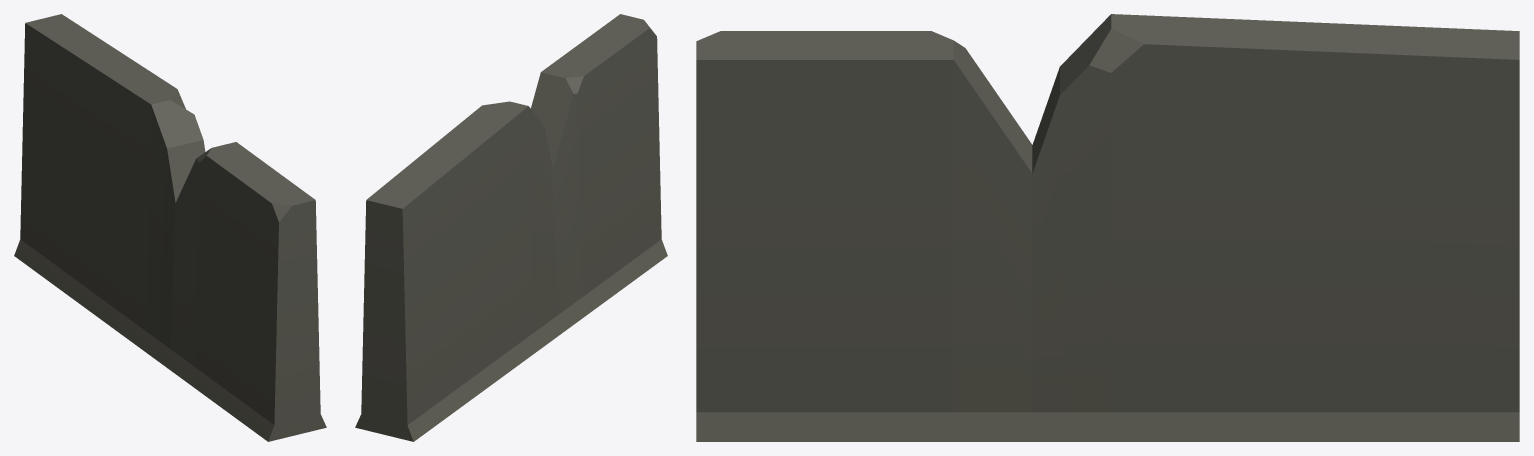
The model's file is RoadPart_05.fbx.
The picture shows the model from 3 angles, left to right: view 1: azimuth 30°, elevation 25°; view 2: azimuth 150°, elevation 25°; view 3: azimuth 270°, elevation 25°; orthographic projection. The views are drawn at different scales.
Visible parts, largest first — view 1: RoadPart_05; view 2: RoadPart_05; view 3: RoadPart_05.
Part boxes in pixels (x1,y1,x2,y2): RoadPart_05: (14,14,326,441); RoadPart_05: (355,14,667,441); RoadPart_05: (696,14,1519,441).
Bounding box in the file's own units: 0.4 × 1.57 × 3.
